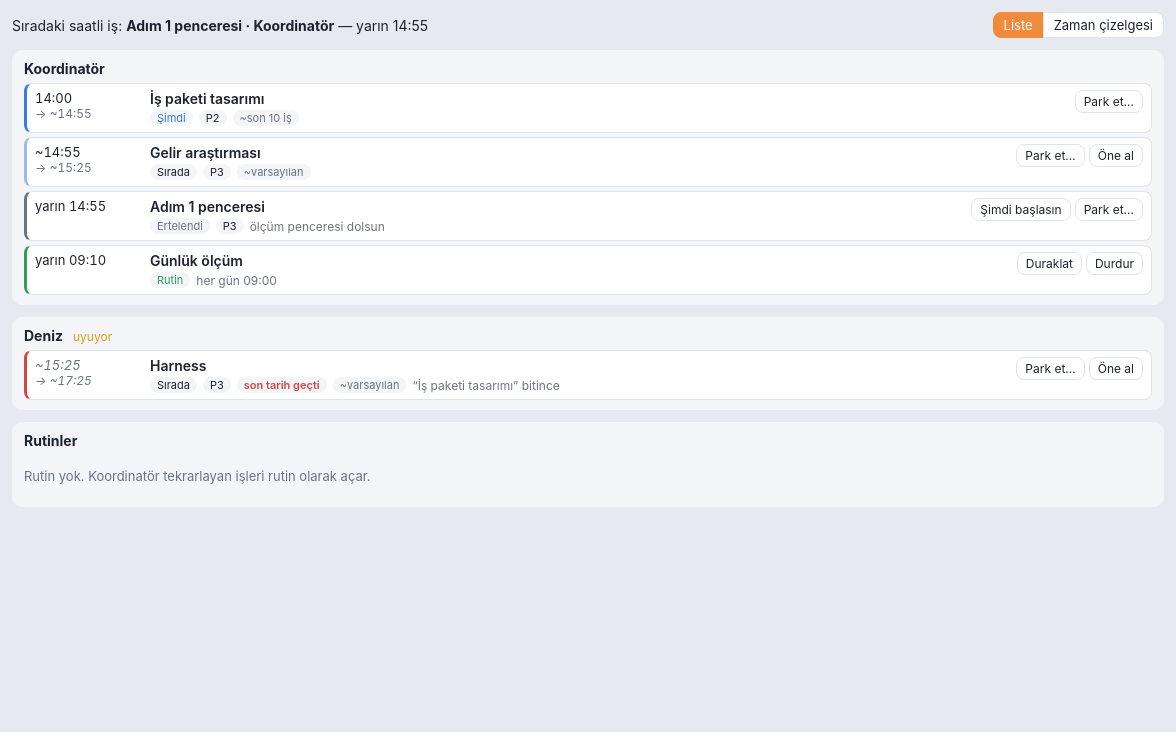
it: AgendaTab › switches to the timeline view
The width and height of the screenshot is (1176, 732).
Expected: the element "Koordinatör" is shown, left=12, top=50, right=1164, bottom=305
Click the button "Zaman çizelgesi" at (1103, 25), box left=1043, top=12, right=1164, bottom=38
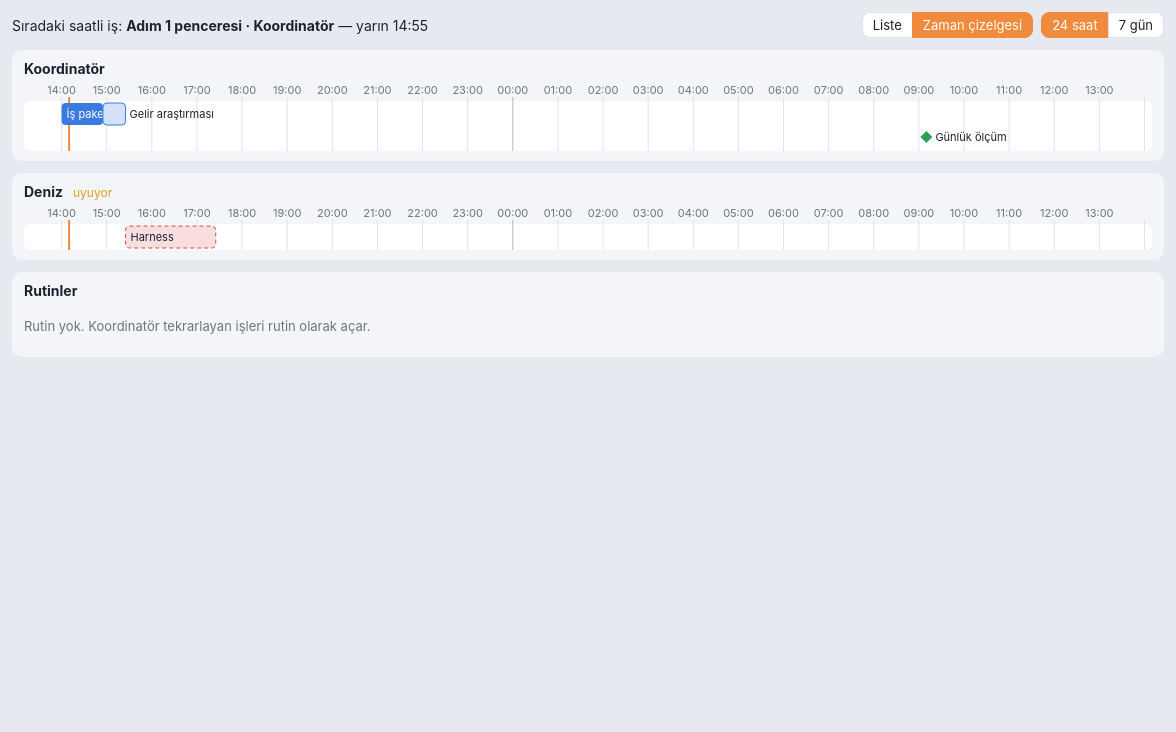
Expected: the picture named "Koordinatör zaman çizelgesi" is shown, left=24, top=83, right=1152, bottom=151
